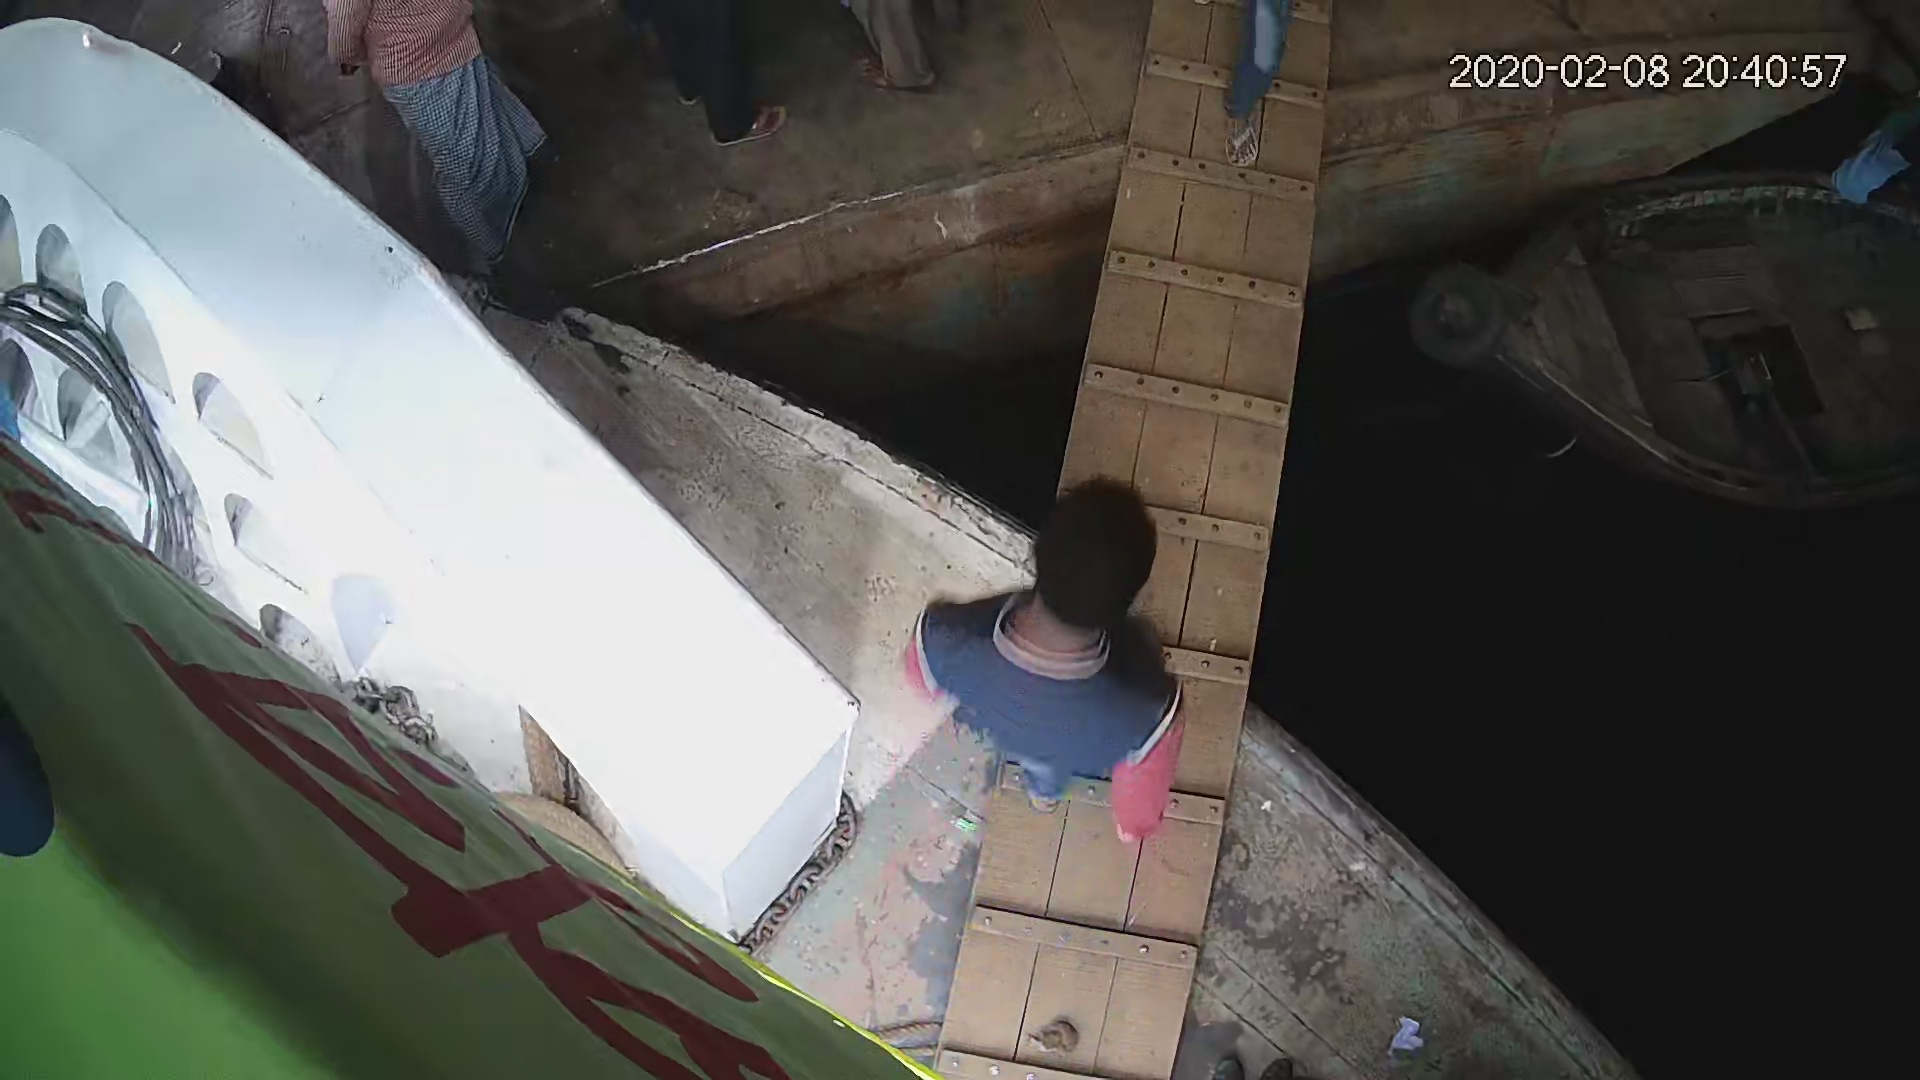person: (896, 480, 1200, 840), (313, 1, 557, 284)
